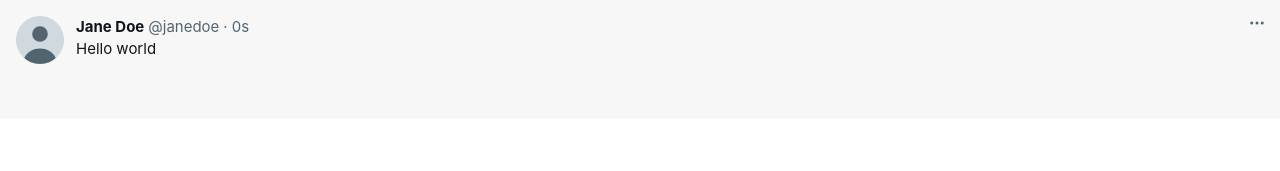
Scenario: CommentItem › shows the dropdown menu only for the comment author
Click the button named "More options" at (1257, 23), box [1242,8,1272,38]
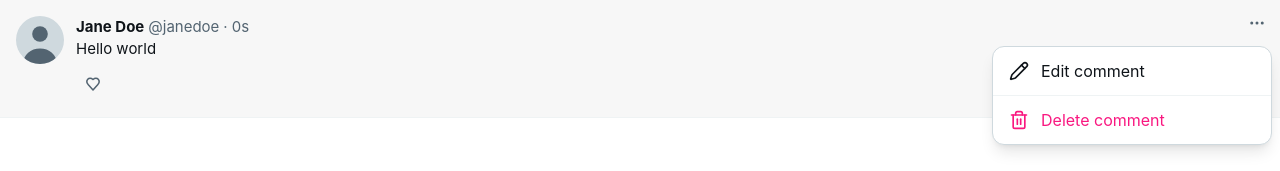
Now the button "Delete comment" is shown, box [993,96,1271,144]
